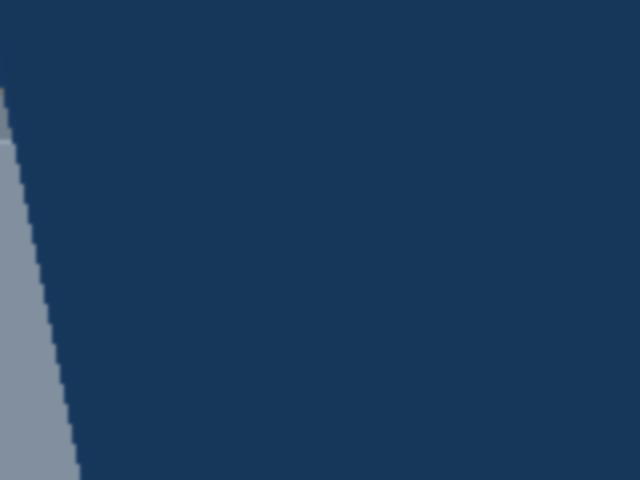goal_zone: (443, 204, 544, 235)
person: (0, 0, 252, 280)
puck: (413, 268, 436, 295), (492, 195, 514, 212), (236, 185, 253, 202)
